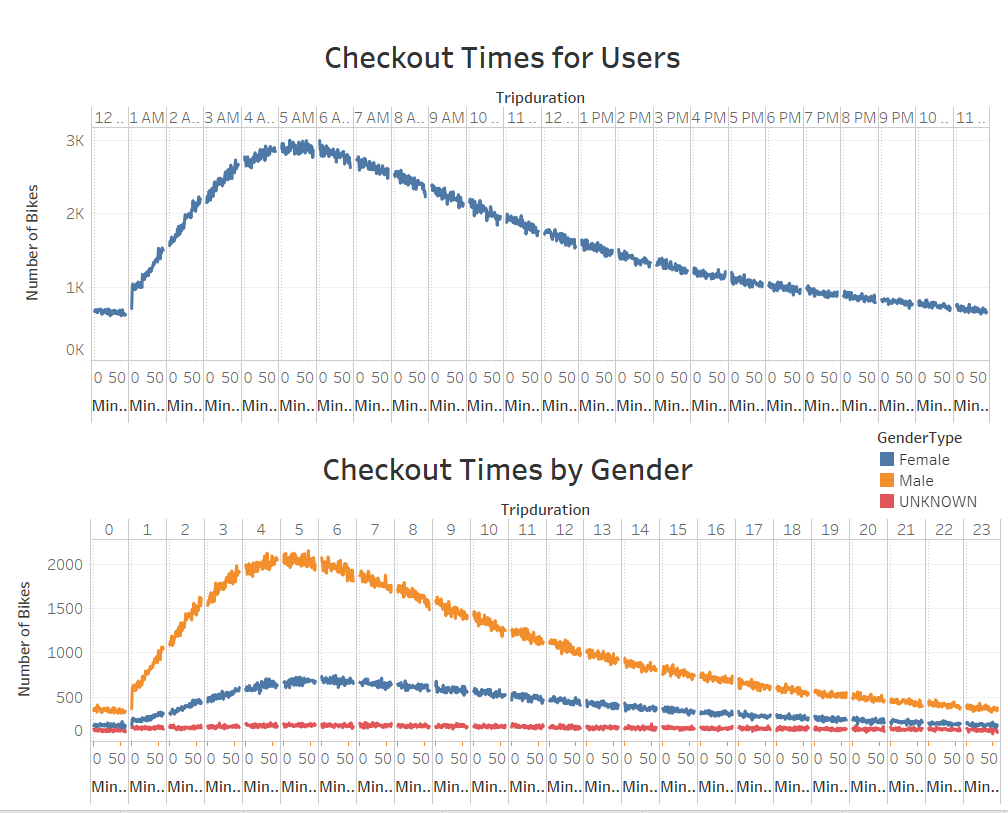

This screenshot's page, from the dashboard's own definition file:
{"tool":"tableau","page":{"name":"Checkout Time for users","canvas":[1000,800],"ordinal":0},"visuals":[{"type":"worksheet","title":"Checkout Times for Users","mark":"Automatic","rows":["citibike_tripdata_aug2019.csv_D8967C2C65EA428F9E0E94B37D14C7"],"cols":["tripduration","tripduration"],"box":[6,14,977,393]},{"type":"worksheet","title":"Checkout Times by Gender","mark":"Automatic","rows":["citibike_tripdata_aug2019.csv_D8967C2C65EA428F9E0E94B37D14C7"],"cols":["tripduration","tripduration"],"box":[5,426,989,362]}]}

Visuals, with their boxes in screenshot pixels (x1, y1, x2, y2), scaled from the page's 1000x800 canvas onto the 1008x813 screenshot:
"Checkout Times for Users" worksheet: x1=6, y1=14, x2=991, y2=414
"Checkout Times by Gender" worksheet: x1=5, y1=433, x2=1002, y2=801
